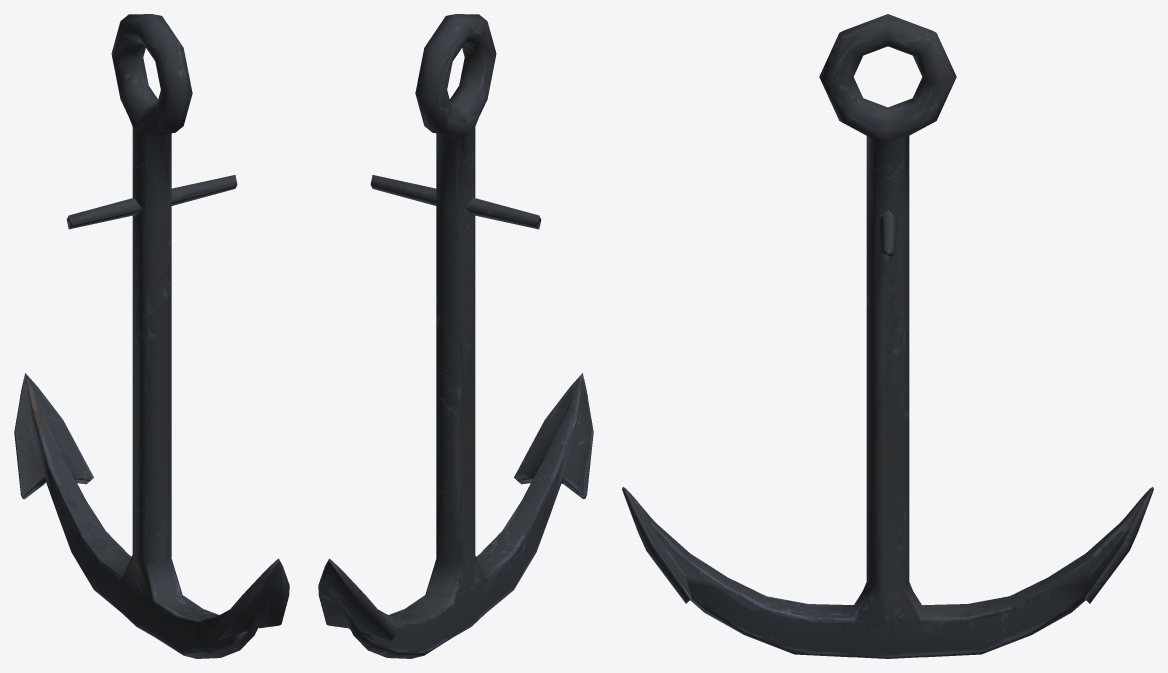
The model's file is anchor.glb.
3 renders of one model, left to right at view 1: azimuth 30°, elevation 25°; view 2: azimuth 150°, elevation 25°; view 3: azimuth 270°, elevation 25°, orthographic. The views are drawn at different scales.
Parts seen in each view (by area): view 1: anchor; view 2: anchor; view 3: anchor.
Part boxes in pixels (x1,y1,x2,y2): anchor: (14, 14, 289, 658); anchor: (318, 14, 593, 658); anchor: (622, 14, 1153, 658).
Bounding box in the file's own units: 0.4749 × 1.67 × 1.26.
1 material, 1 textured.
